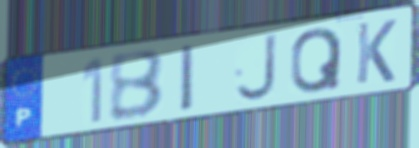1: (81, 54, 105, 127)
B: (107, 47, 167, 124)
I: (179, 41, 197, 115)
J: (233, 31, 279, 104)
K: (354, 17, 399, 87)
Q: (288, 26, 345, 96)
